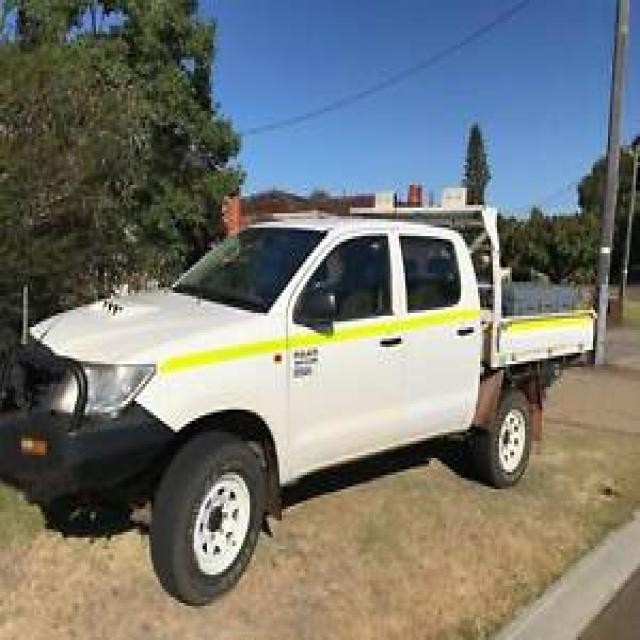light_vehicle: (2, 196, 638, 606)
